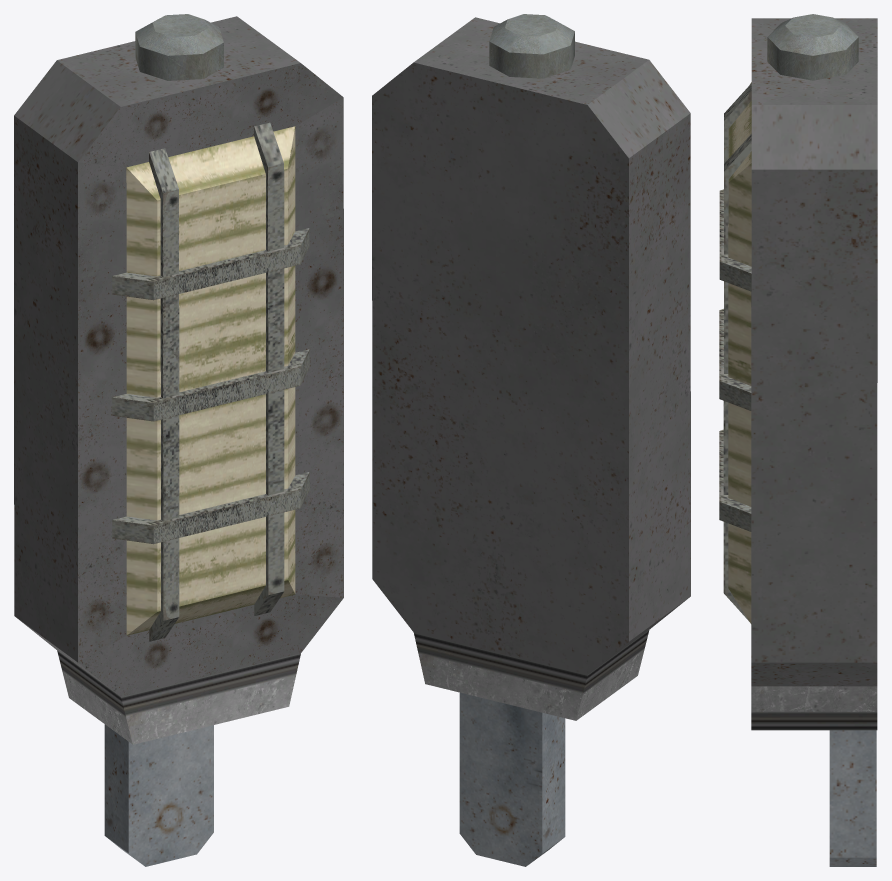
Rendered from Ob_Lamp2_RC.fbx.
The picture shows the model from 3 angles, left to right: view 1: azimuth 30°, elevation 25°; view 2: azimuth 150°, elevation 25°; view 3: azimuth 270°, elevation 25°; orthographic projection. The views are drawn at different scales.
Parts seen in each view (by area): view 1: Ob_Lamp2_RC; view 2: Ob_Lamp2_RC; view 3: Ob_Lamp2_RC.
Boxes of the visible parts, <box> form: Ob_Lamp2_RC: <box>14,14,343,866</box>; Ob_Lamp2_RC: <box>372,14,690,866</box>; Ob_Lamp2_RC: <box>719,14,877,866</box>.
Size of the model in its own units: 151 by 456 by 78.95.
